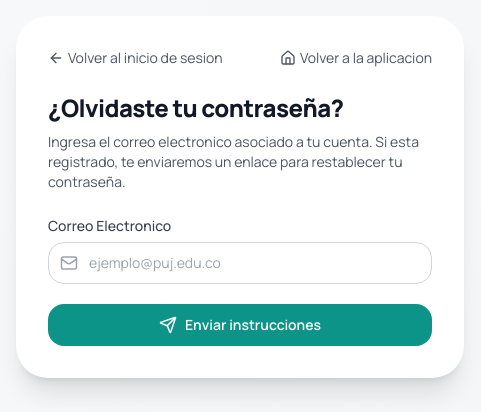
Scenario: ForgotPassword › envia el correo y muestra mensaje de exito generico
Type "user@x.com" into the field labelled "Correo Electronico" at (240, 263), box [48,242,432,284]
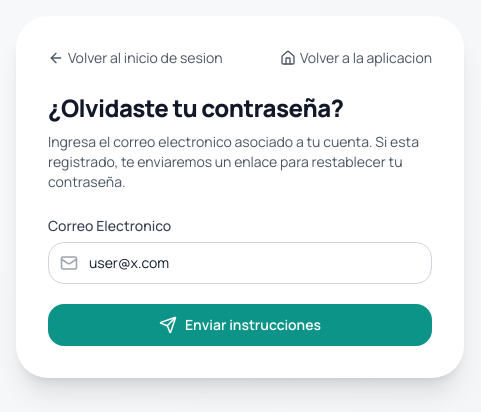
Click the button "Enviar instrucciones" at (240, 325), box [48,304,432,346]
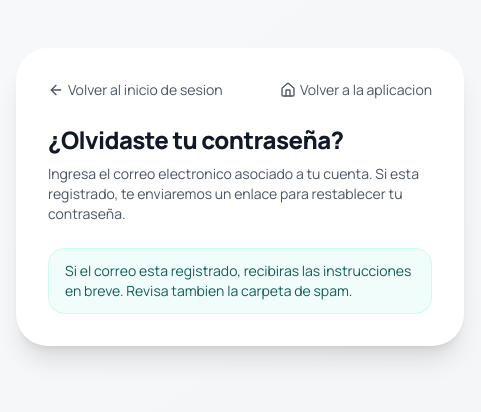
Expected: the text "Si el correo esta registrado, recibiras las instrucciones" is shown, [65,261,411,300]
